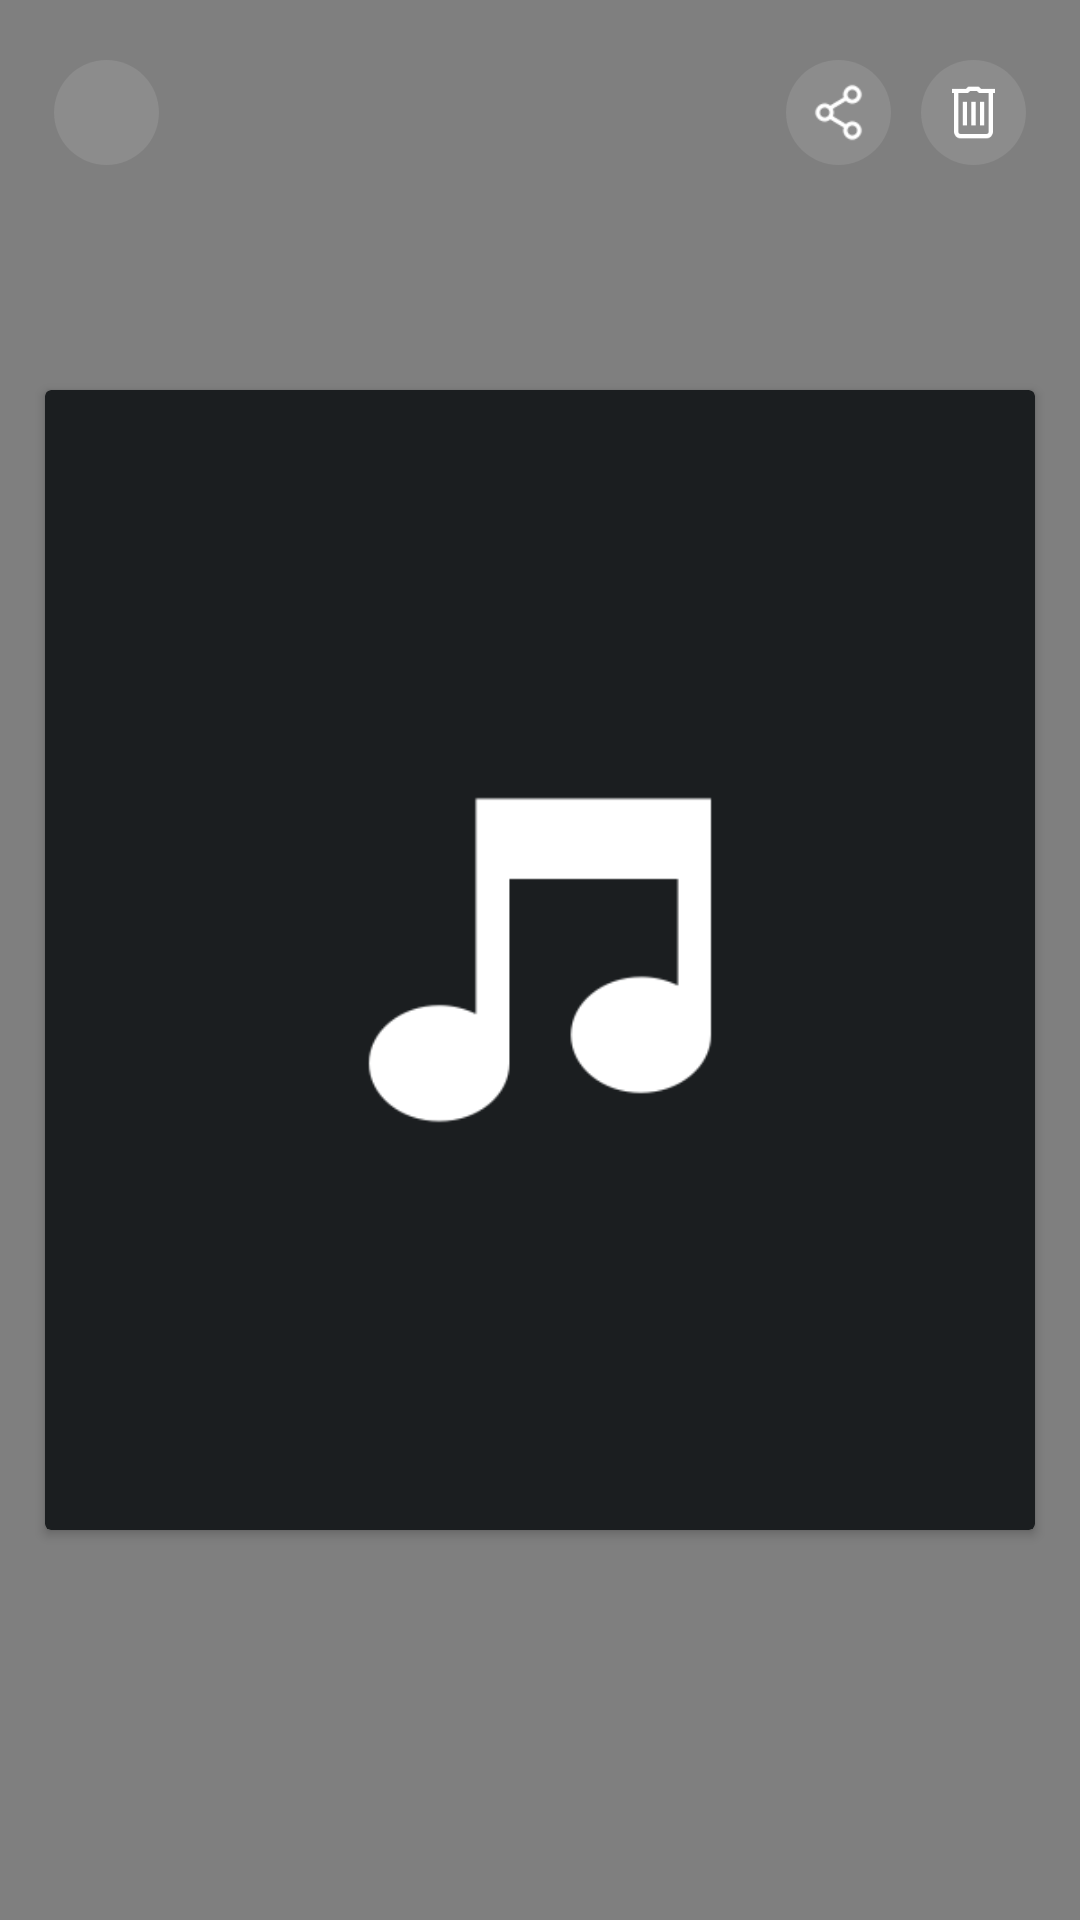

Named icons in this screenshot (1080*1920) and their centers, [x,y]:
aud: [540,960]
delete: [973,112]
share: [838,112]
